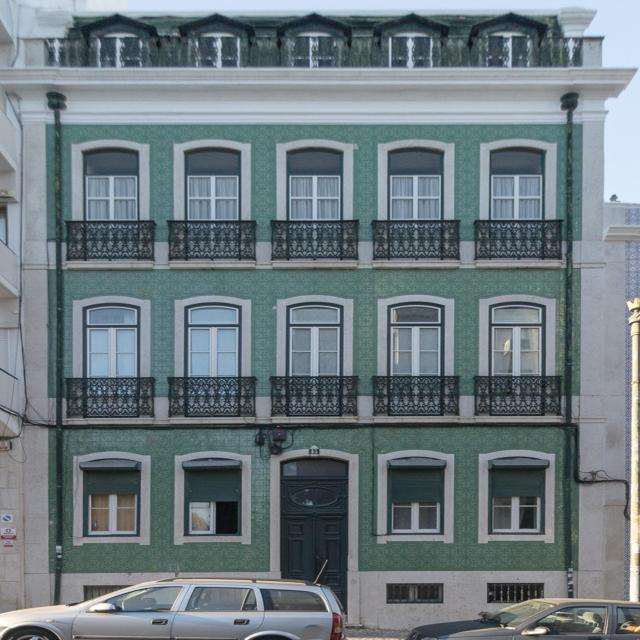Railing: (66, 378, 566, 417), (68, 221, 563, 260)
door: (284, 464, 351, 590)
wall: (1, 17, 640, 635)
windows: (74, 141, 150, 226), (177, 146, 256, 224), (485, 145, 559, 225), (382, 144, 455, 225), (80, 302, 152, 381), (178, 299, 249, 379), (386, 299, 454, 381), (284, 145, 354, 224), (281, 300, 351, 376), (486, 300, 551, 380), (388, 462, 446, 537), (85, 464, 142, 540), (186, 464, 243, 539), (492, 465, 546, 539), (91, 34, 152, 67), (479, 31, 533, 65), (390, 36, 438, 67), (197, 37, 240, 69), (300, 39, 342, 69)
